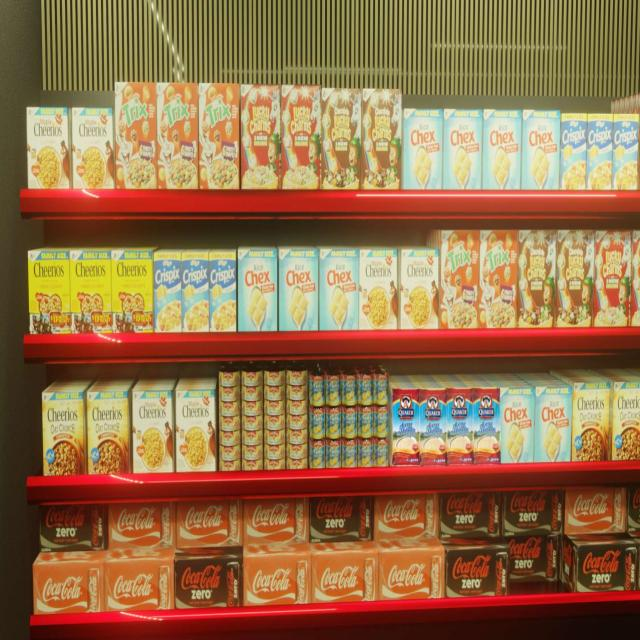Avena: (392, 388, 421, 466), (446, 388, 475, 466), (420, 390, 448, 467), (474, 388, 501, 466)
